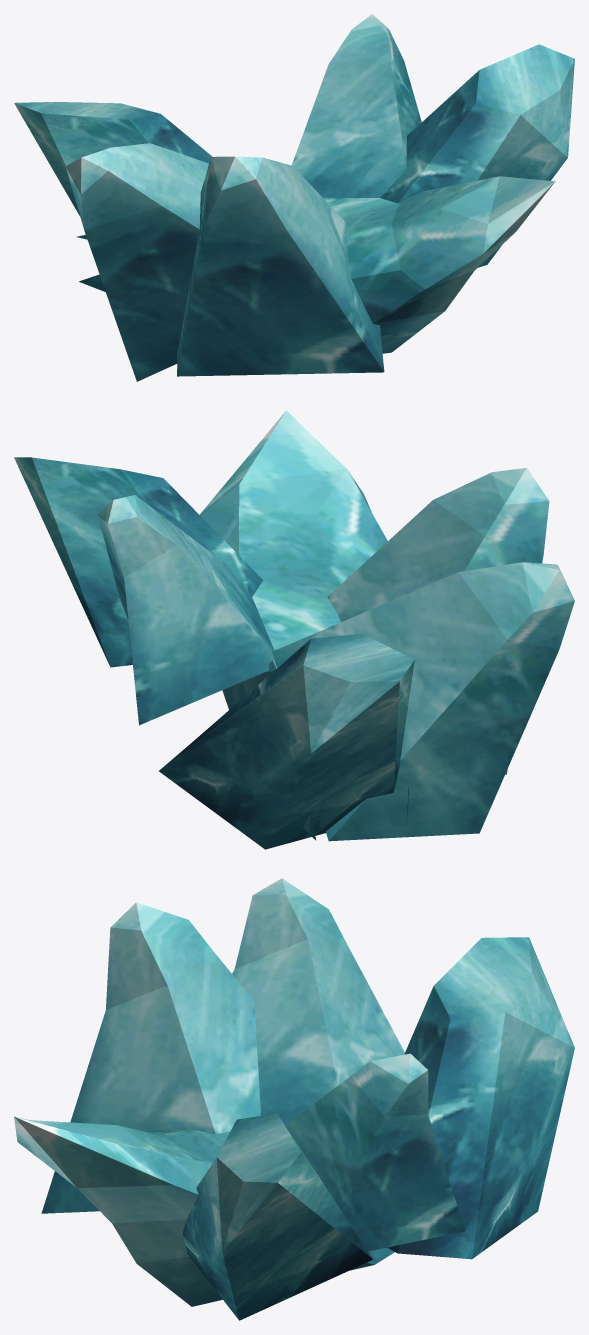
The model's file is environment_stone_shuijing_001_i.FBX.
3 views of the same model, one above another, from view 1: azimuth 30°, elevation 25°; view 2: azimuth 150°, elevation 25°; view 3: azimuth 270°, elevation 25° (orthographic). The views are drawn at different scales.
Visible parts, largest first — view 1: environment_stone_shuijing_001_i; view 2: environment_stone_shuijing_001_i; view 3: environment_stone_shuijing_001_i.
Part boxes in pixels (<box>): environment_stone_shuijing_001_i: <box>14,14,574,381</box>; environment_stone_shuijing_001_i: <box>14,410,574,849</box>; environment_stone_shuijing_001_i: <box>14,878,574,1320</box>.
Size of the model in its own units: 144 by 74.42 by 120.
